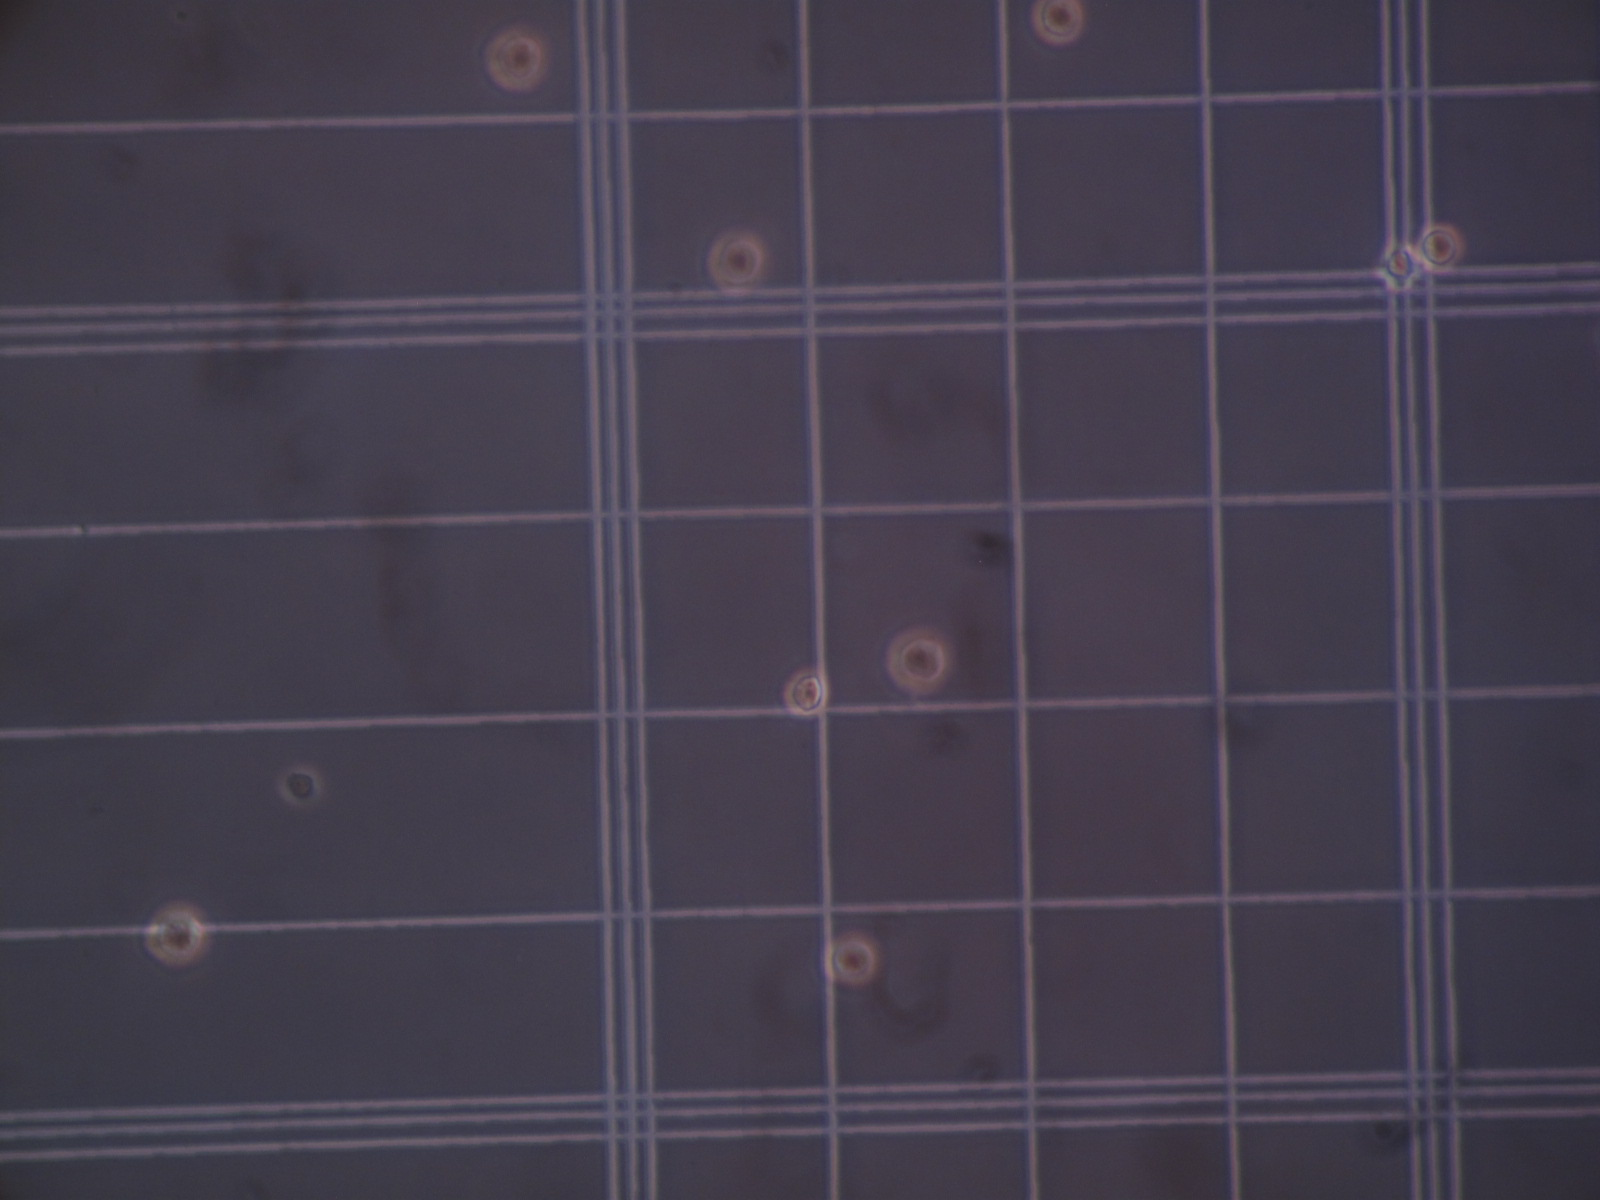hemo: (884, 628, 951, 695), (706, 229, 769, 297), (144, 903, 207, 967), (484, 29, 547, 92), (824, 933, 877, 984), (1416, 223, 1464, 274), (784, 667, 829, 717), (1032, 1, 1083, 45), (1376, 243, 1420, 290), (278, 765, 323, 807)
